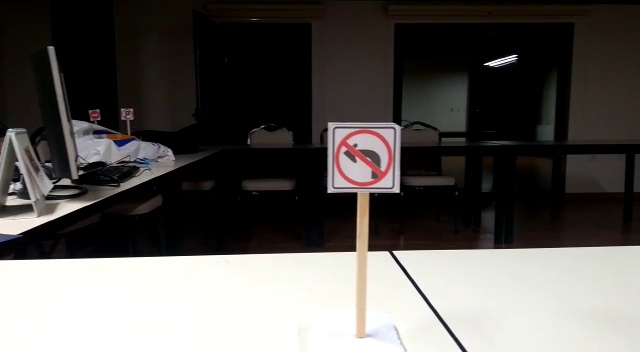sola_donulmez: (331, 123, 401, 188)
